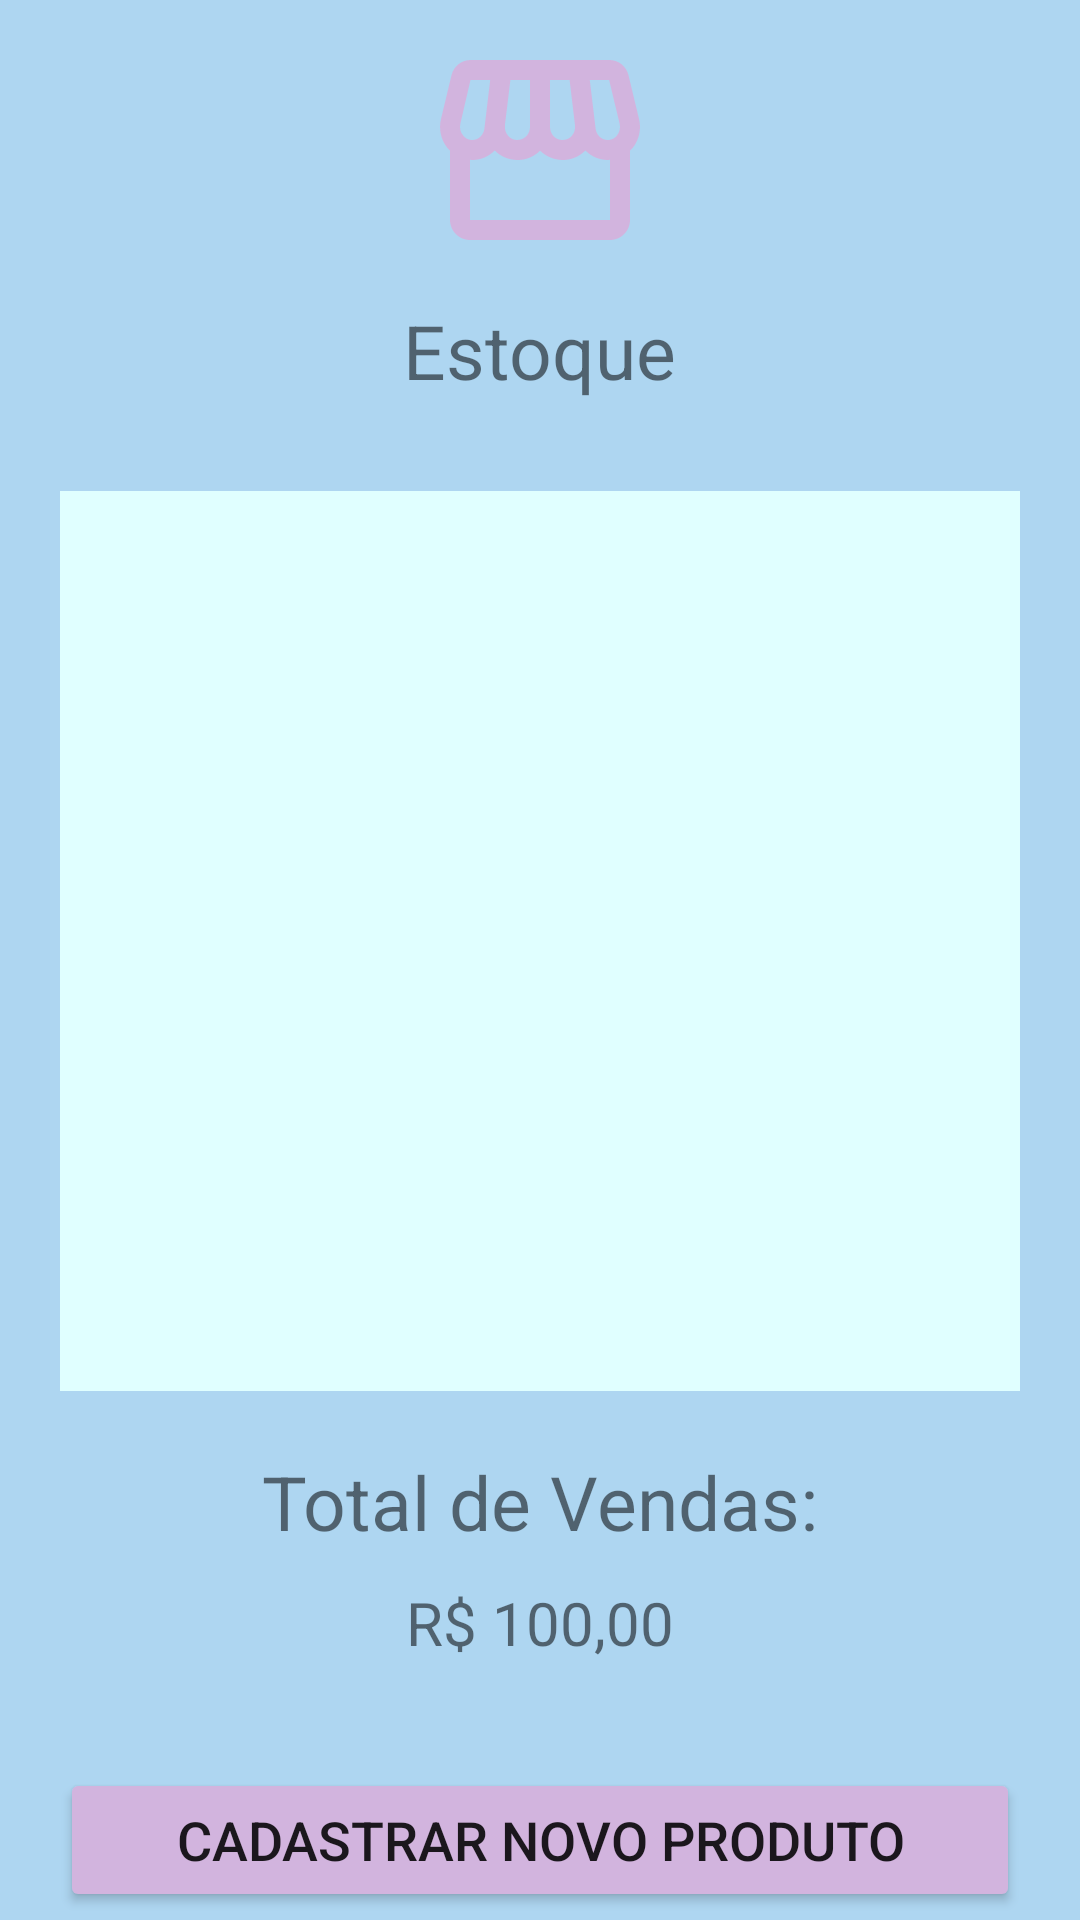

Where to tap for icons on this 1080×1920 app screen, as point (x, y):
storefront: point (540, 150)
